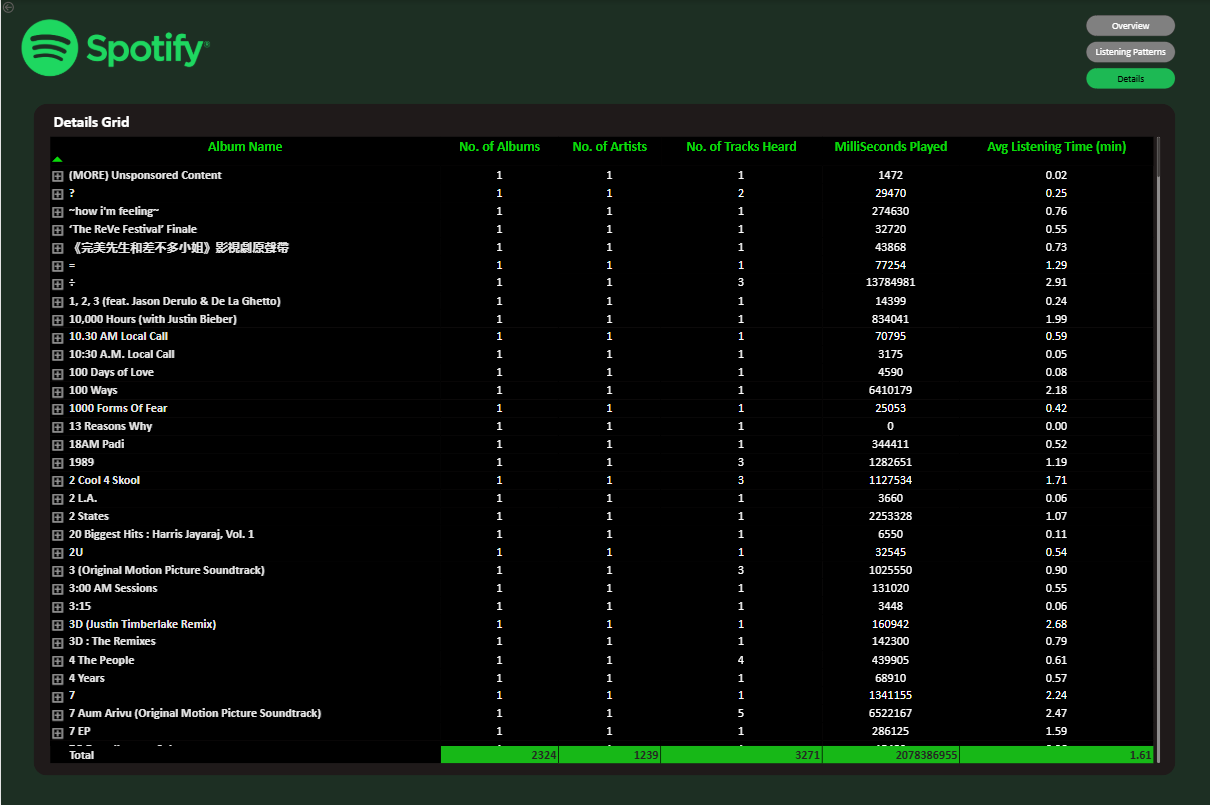

This screenshot's page, from the dashboard's own definition file:
{"tool":"powerbi","page":{"name":"Details","canvas":[3300,2200],"ordinal":2},"visuals":[{"type":"shape","box":[89.3,282.7,3117,1833.8],"z":0},{"type":"image","box":[26,33.5,575,200],"z":1000},{"type":"pivotTable","fields":{"Rows":["Spotify Streaming History.album_name","Spotify Streaming History.artist_name","Spotify Streaming History.track_name","Spotify Streaming History.platform","Spotify Streaming History.Track Played Date"],"Values":["Spotify Streaming History.No. of Albums","Spotify Streaming History.No. of Artists","Spotify Streaming History.No. of Tracks Heard","Sum(Spotify Streaming History.ms_played)","Spotify Streaming History.Avg Listening Time (min)"]},"box":[129.8,367.3,3039.7,1719.4],"z":2000},{"type":"actionButton","box":[0,0,100,40],"z":3000},{"type":"pageNavigator","box":[2961.3,40.3,244.4,203.7],"z":4000},{"type":"textbox","box":[129.8,300.8,234.3,66.5],"z":5000}]}

Visuals, with their boxes in screenshot pixels (x1, y1, x2, y2), scaled from the page's 3300x2200 canvas onto the 1210x805 screenshot:
shape: <region>33, 103, 1176, 774</region>
image: <region>10, 12, 220, 85</region>
pivotTable - Spotify Streaming History.album_name x Spotify Streaming History.artist_name: <region>48, 134, 1162, 764</region>
actionButton: <region>0, 0, 37, 15</region>
pageNavigator: <region>1086, 15, 1175, 89</region>
textbox: <region>48, 110, 134, 134</region>
